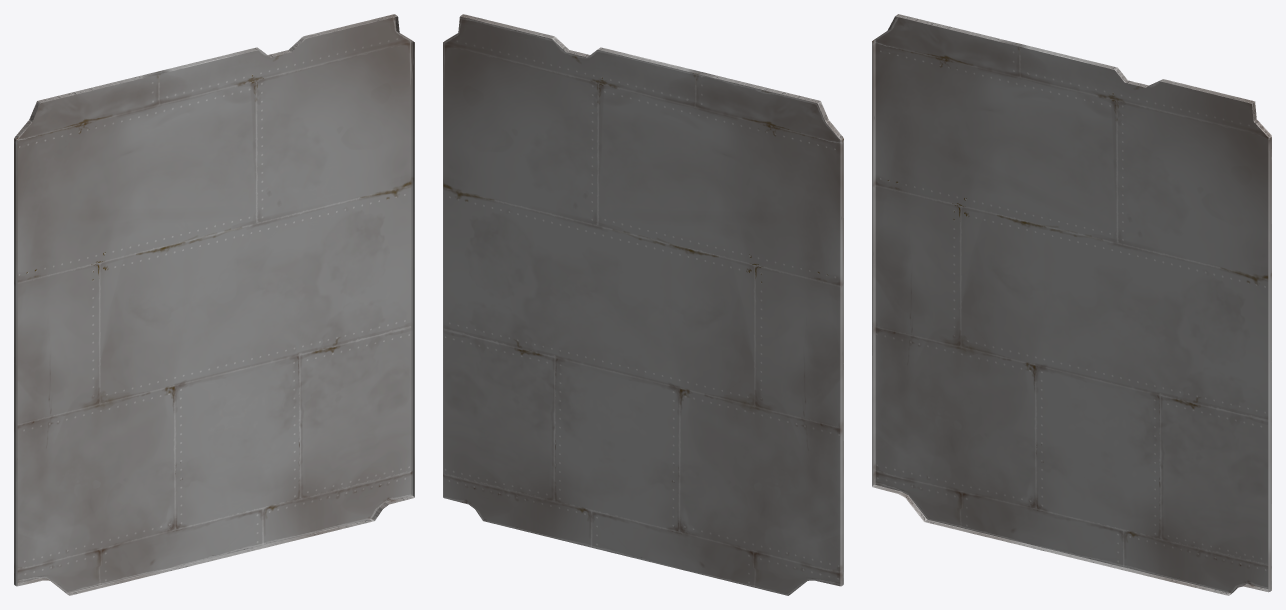
File: Hub_Floor2.FBX
3 views of the same model, side by side, from view 1: azimuth 30°, elevation 25°; view 2: azimuth 150°, elevation 25°; view 3: azimuth 330°, elevation 25° (orthographic).
Parts seen in each view (by area): view 1: Floor2; view 2: Floor2; view 3: Floor2.
Part boxes in pixels (<box>): Floor2: <box>14,14,414,595</box>; Floor2: <box>443,14,843,595</box>; Floor2: <box>872,14,1271,595</box>.
Size of the model in its own units: 14.91 by 17.85 by 0.2105.
